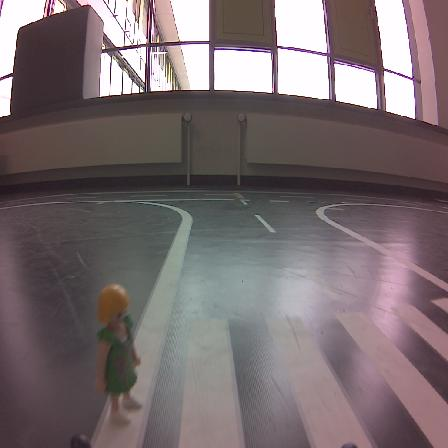PERSON: (95, 284, 141, 425)
